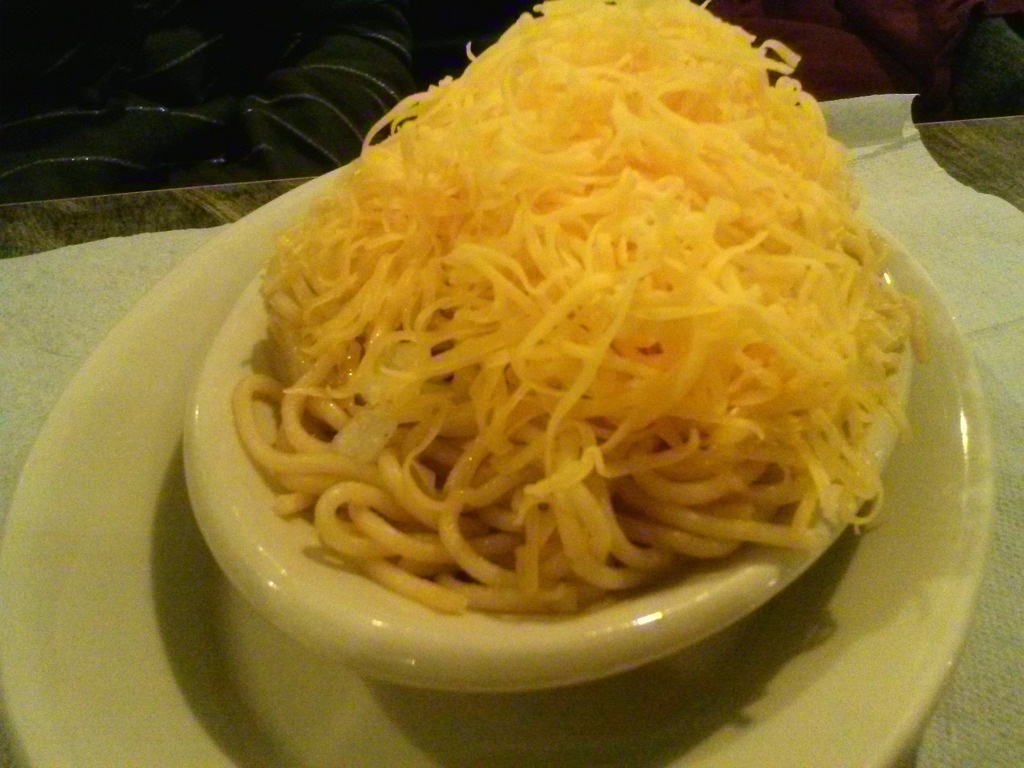plain spaghetti: (248, 351, 828, 615)
